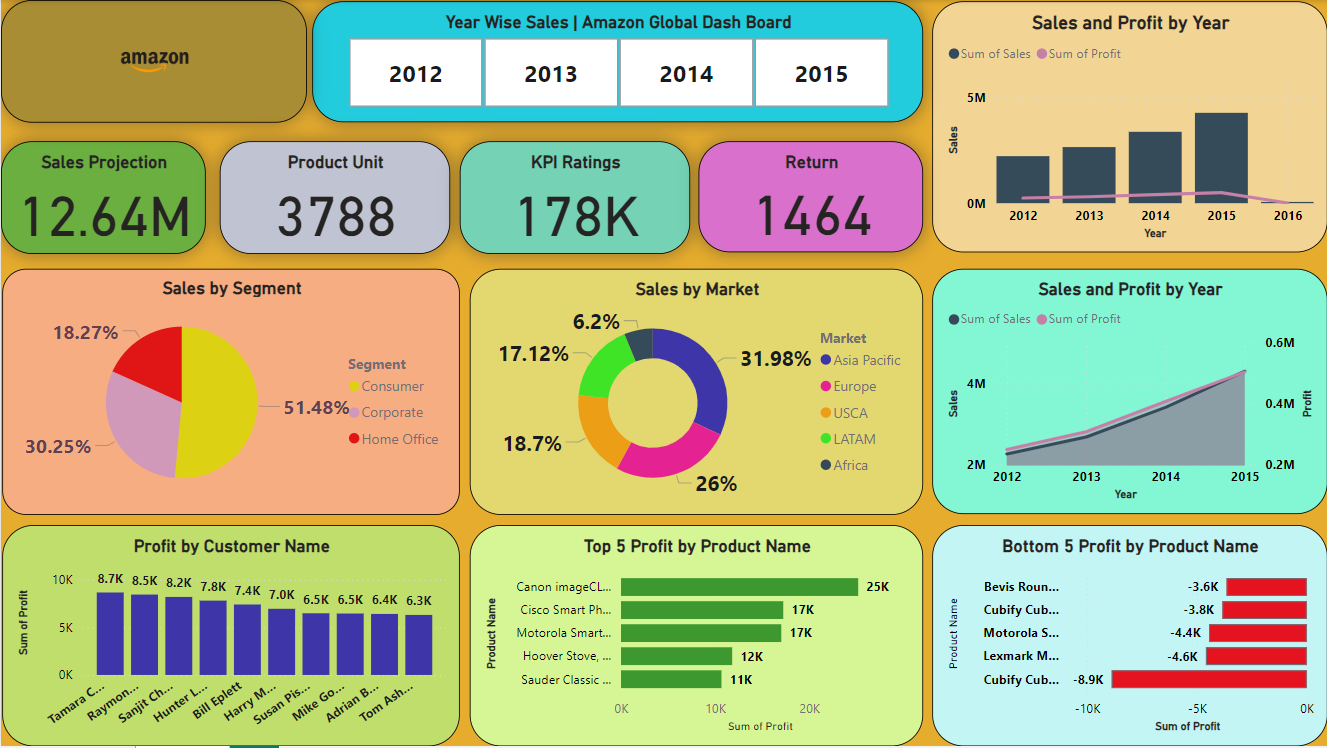

Layout of this report page (visuals, bound fields, positions):
{"tool":"powerbi","page":{"name":"Page 1","canvas":[1280,720],"ordinal":0},"visuals":[{"type":"slicer","title":"Year Wise Sales | Amazon Global Dash Board","fields":{"Values":["Orders.Year"]},"box":[300.4,1.2,589.9,117],"z":0},{"type":"card","title":"Sales Projection","fields":{"Values":["Orders.Sales"]},"box":[0,135.8,197.6,108.4],"z":1000},{"type":"image","box":[0,0,295,118],"z":2000},{"type":"card","title":"Product Unit","fields":{"Values":["Orders.Product Name"]},"box":[211.3,135.8,222.3,108.4],"z":3000},{"type":"card","title":"KPI Ratings","fields":{"Values":["Orders.Quantity"]},"box":[443.2,135.8,222.3,108.4],"z":4000},{"type":"card","title":"Return ","fields":{"Values":["Orders.Ship Date"]},"box":[673.2,136.3,217.2,107.4],"z":5000},{"type":"pieChart","title":"Sales by Segment","fields":{"Category":["Orders.Segment"],"Y":["Orders.Sales"]},"box":[1.4,259.3,441.9,237.4],"z":6000},{"type":"donutChart","title":"Sales by Market","fields":{"Y":["Orders.Sales"],"Category":["Orders.Market"]},"box":[452.4,259.4,437.9,237.7],"z":7000},{"type":"columnChart","title":"Profit by Customer Name","fields":{"Category":["Orders.Customer Name"],"Y":["Orders.Profit"]},"box":[1.2,506.7,441.6,213.5],"z":8000},{"type":"clusteredBarChart","title":"Top 5 Profit by Product Name","fields":{"Category":["Orders.Product Name"],"Y":["Orders.Profit"]},"box":[452.4,506.7,437.9,213.5],"z":9000},{"type":"clusteredBarChart","title":"Bottom 5 Profit by Product Name","fields":{"Y":["Orders.Profit"],"Category":["Orders.Product Name"]},"box":[898.8,506.7,381.2,213.5],"z":10000},{"type":"lineStackedColumnComboChart","title":"Sales and Profit by Year","fields":{"Y":["Orders.Sales"],"Category":["Orders.Ship Date.Variation.Date Hierarchy.Year"],"Y2":["Orders.Profit"]},"box":[898.8,1.2,381.2,242.5],"z":10001},{"type":"areaChart","title":"Sales and Profit by Year","fields":{"Y":["Orders.Sales"],"Category":["Orders.Order Date.Variation.Date Hierarchy.Year"],"Y2":["Orders.Profit"]},"box":[898.8,259.4,381.2,236.5],"z":10002}]}

Visuals, with their boxes in screenshot pixels (x1, y1, x2, y2), scaled from the page's 1280x720 canvas onto the 1327x748 screenshot:
"Year Wise Sales | Amazon Global Dash Board" slicer: (left=311, top=1, right=923, bottom=123)
"Sales Projection" card: (left=0, top=141, right=205, bottom=254)
image: (left=0, top=0, right=306, bottom=123)
"Product Unit" card: (left=219, top=141, right=450, bottom=254)
"KPI Ratings" card: (left=459, top=141, right=690, bottom=254)
"Return " card: (left=698, top=142, right=923, bottom=253)
"Sales by Segment" pieChart: (left=1, top=269, right=460, bottom=516)
"Sales by Market" donutChart: (left=469, top=269, right=923, bottom=516)
"Profit by Customer Name" columnChart: (left=1, top=526, right=459, bottom=747)
"Top 5 Profit by Product Name" clusteredBarChart: (left=469, top=526, right=923, bottom=747)
"Bottom 5 Profit by Product Name" clusteredBarChart: (left=932, top=526, right=1326, bottom=747)
"Sales and Profit by Year" lineStackedColumnComboChart: (left=932, top=1, right=1326, bottom=253)
"Sales and Profit by Year" areaChart: (left=932, top=269, right=1326, bottom=515)
